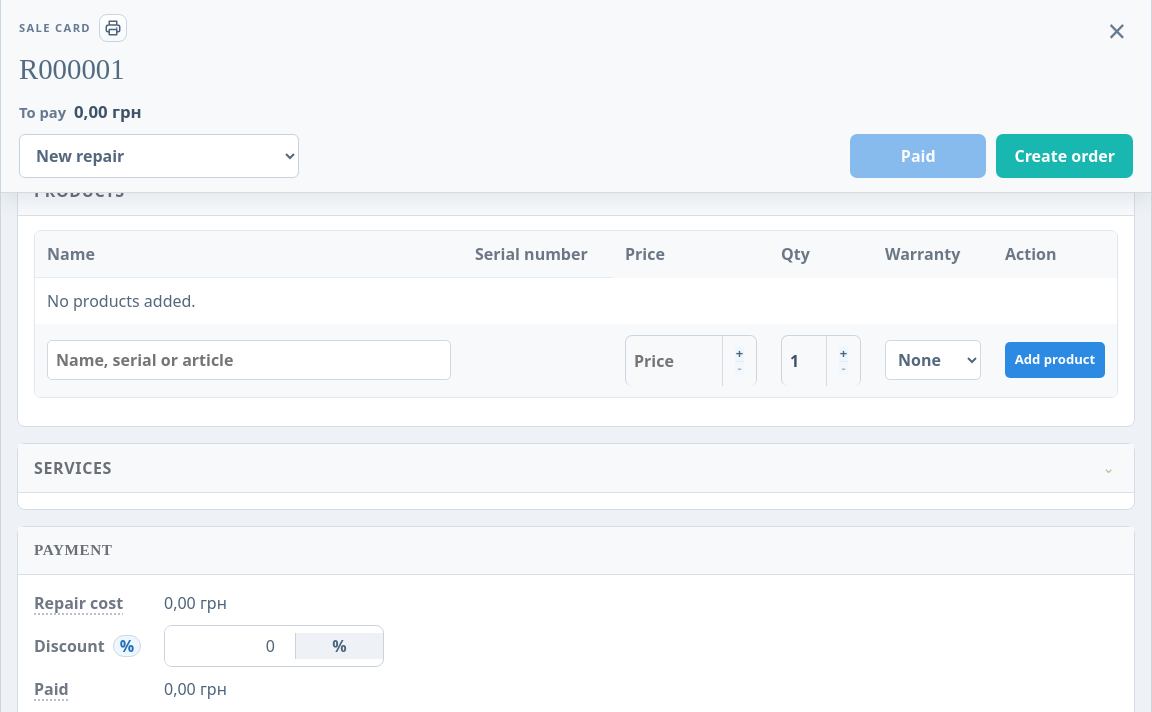
Test: OrderDetailCard product entry › shows catalog suggestions when searching by product name
The image size is (1152, 712).
In the field with placeholder "Name, serial or article": {"x": 249, "y": 360} [47,340,451,380], type "TerraE"
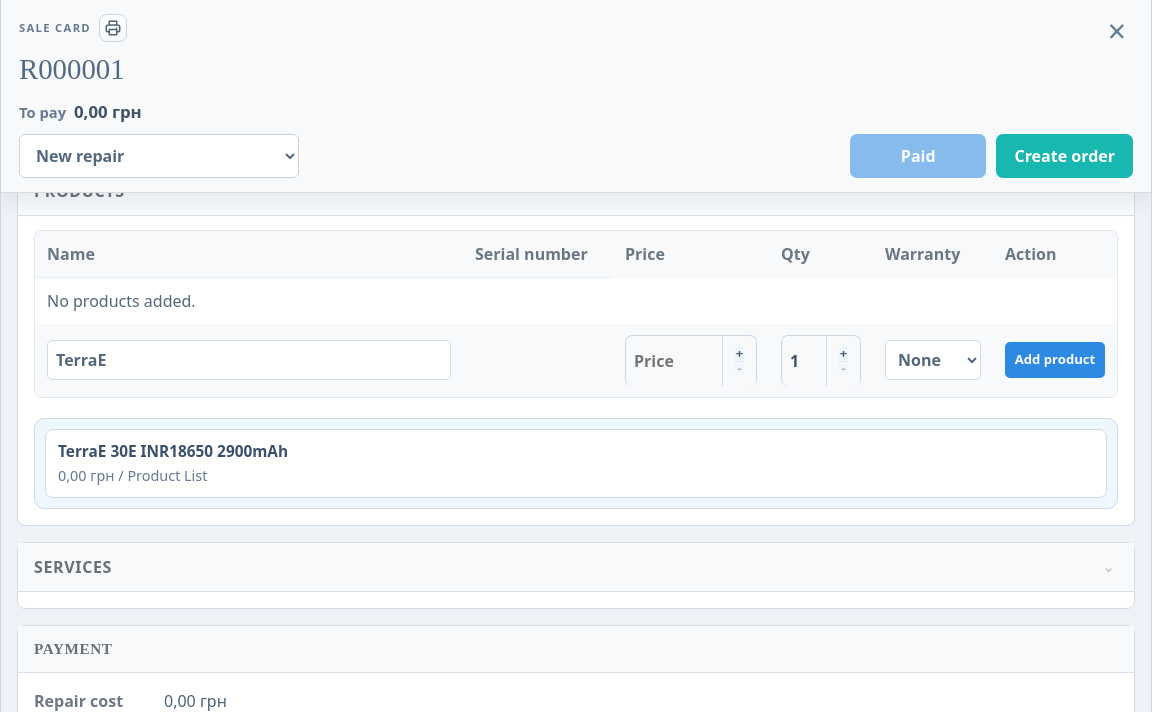
Check: the text "0,00 грн / Product List" is shown, box [58,466,207,485]
